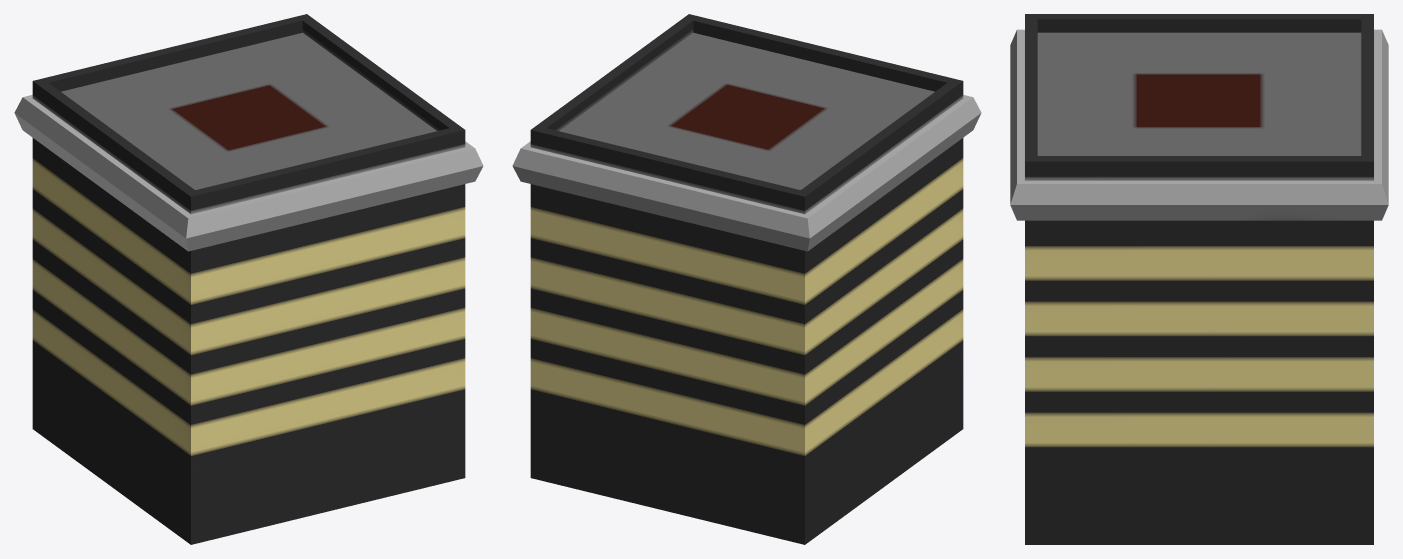
Rendered from Building.dae.
3 views of the same model, side by side, from view 1: azimuth 30°, elevation 25°; view 2: azimuth 150°, elevation 25°; view 3: azimuth 270°, elevation 25° (orthographic). The views are drawn at different scales.
Visible parts, largest first — view 1: Building; view 2: Building; view 3: Building.
Boxes of the visible parts, left/top/right/bottom form: Building: left=14, top=14, right=483, bottom=544; Building: left=512, top=14, right=981, bottom=544; Building: left=1010, top=14, right=1388, bottom=544.
Bounding box in the file's own units: 3.25 × 3.25 × 3.64.
1 material, 1 textured.
